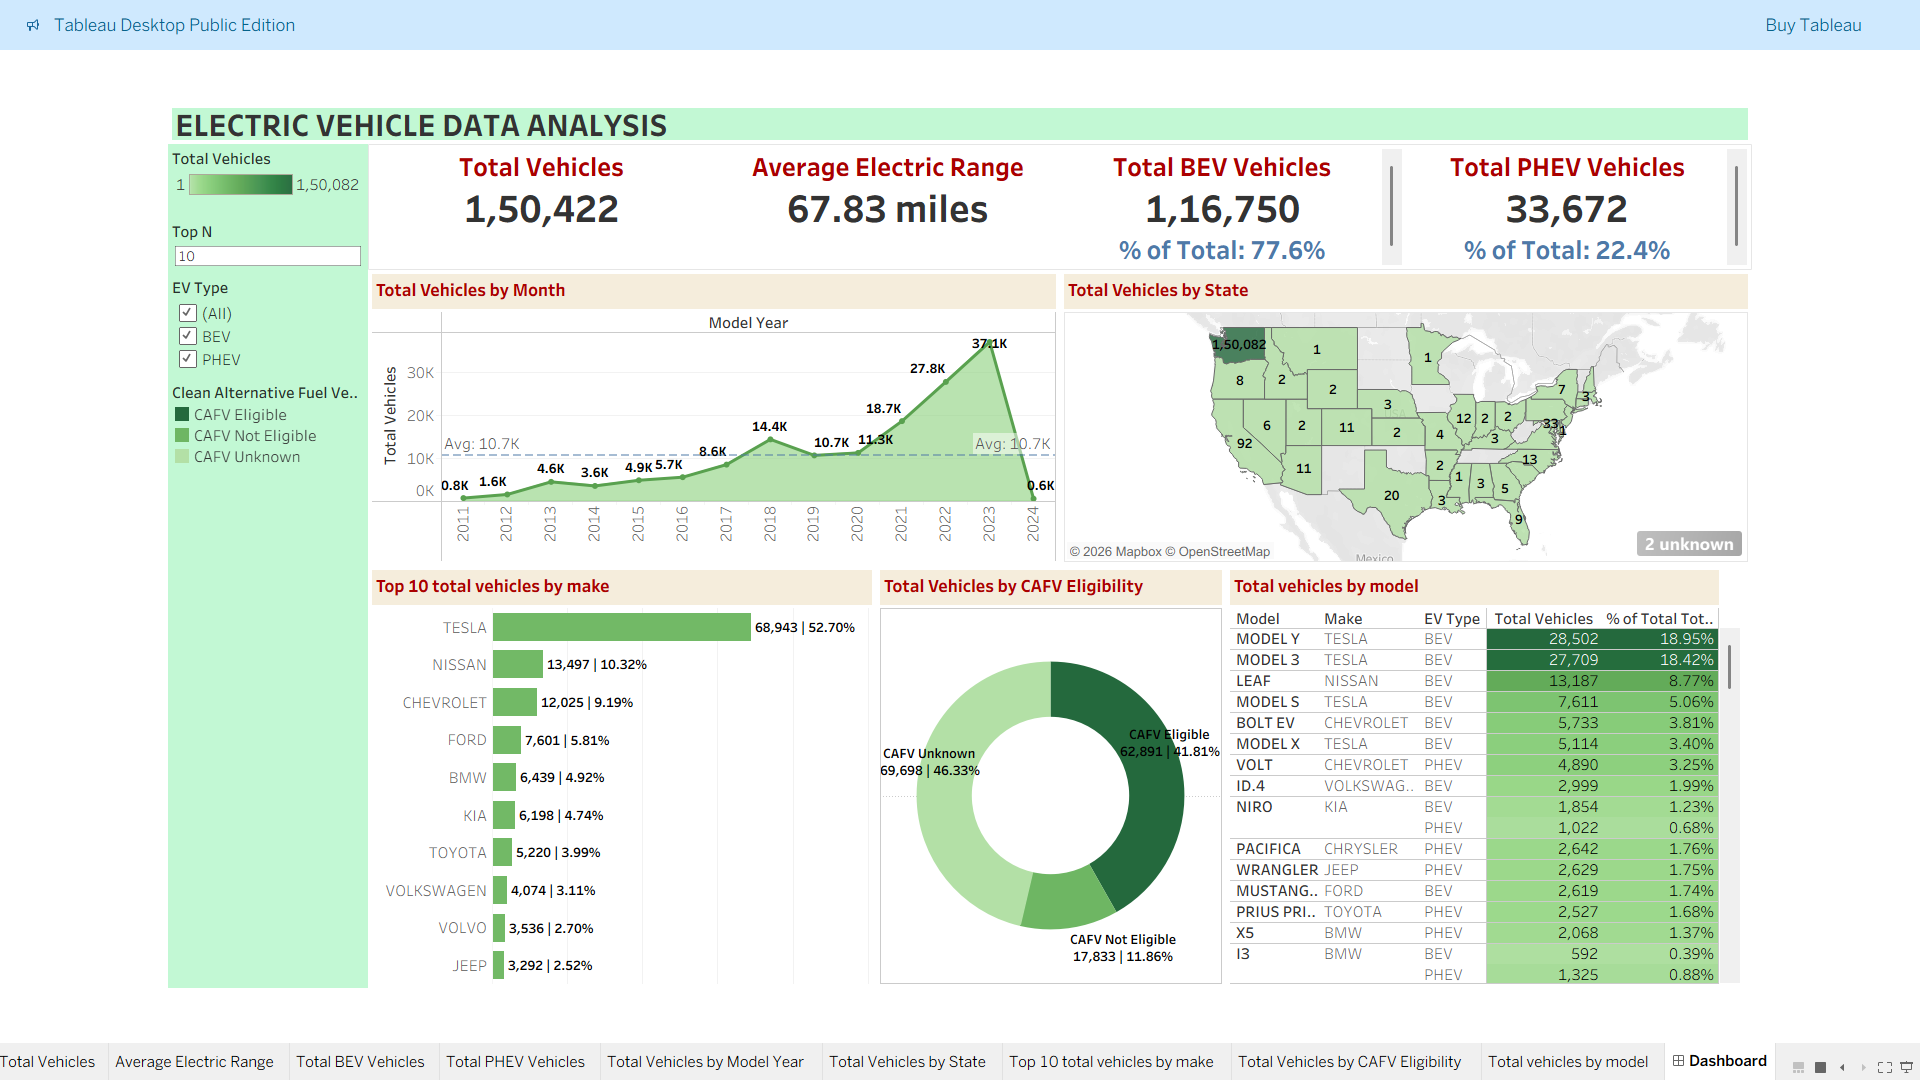

The page's visual inventory and layout, read from the dashboard file:
{"tool":"tableau","page":{"name":"Dashboard","canvas":[1600,900],"ordinal":0},"visuals":[{"type":"title","box":[8,8,1584,40]},{"type":"legend","title":"Total Vehicles by State","param":"[federated.1rrz31y1bbk14j0zt2di90zb713t].[usr:Calculation_1497165453894139904:qk","box":[8,48,200.2,73]},{"type":"worksheet","title":"Total Vehicles","mark":"Automatic","box":[209,49,346,124]},{"type":"worksheet","title":"Average Electric Range","mark":"Automatic","box":[555,49,346,124]},{"type":"worksheet","title":"Total BEV Vehicles","mark":"Automatic","box":[901,49,345,124]},{"type":"worksheet","title":"Total PHEV Vehicles","mark":"Automatic","box":[1246,49,345,124]},{"type":"parameter","param":"[Parameters].[Parameter 1]","box":[8,121,200.2,56]},{"type":"worksheet","title":"Total Vehicles by Model Year","mark":"Area","rows":["Calculation_1497165453894139904","Calculation_1497165453894139904"],"cols":["Model Year"],"box":[208,174,692,296]},{"type":"worksheet","title":"Total Vehicles by State","mark":"Multipolygon","box":[900,174,692,296]},{"type":"filter","title":"Top 10 total vehicles by make","param":"[federated.1rrz31y1bbk14j0zt2di90zb713t].[none:Electric Vehicle Type:nk]","box":[8,177,200.2,105]},{"type":"legend","title":"Total Vehicles by CAFV Eligibility","param":"[federated.1rrz31y1bbk14j0zt2di90zb713t].[none:Clean Alternative Fuel Vehicle (C","box":[8,282,200.2,93]},{"type":"worksheet","title":"Top 10 total vehicles by make","mark":"Automatic","rows":["Make"],"cols":["Calculation_1497165453894139904"],"box":[208.2,470,508,422]},{"type":"worksheet","title":"Total Vehicles by CAFV Eligibility","mark":"Pie","rows":["Calculation_1497165453920751625","Calculation_1497165453920751625"],"box":[716.2,470,349.8,422]},{"type":"worksheet","title":"Total vehicles by model","mark":"Square","rows":["Model","Make","Electric Vehicle Type"],"box":[1066,470,526,422]}]}

Visuals, with their boxes on the page's 1600x900 design canvas (x1, y1, x2, y2). These are canvas units, not pixel positions in the 1920x1080 screenshot, which may show the page scaled, cropped or inside an application window:
title: (8, 8, 1592, 48)
"Total Vehicles by State" legend: (8, 48, 208, 121)
"Total Vehicles" worksheet: (209, 49, 555, 173)
"Average Electric Range" worksheet: (555, 49, 901, 173)
"Total BEV Vehicles" worksheet: (901, 49, 1246, 173)
"Total PHEV Vehicles" worksheet: (1246, 49, 1591, 173)
parameter: (8, 121, 208, 177)
"Total Vehicles by Model Year" worksheet (Area marks): (208, 174, 900, 470)
"Total Vehicles by State" worksheet (Multipolygon marks): (900, 174, 1592, 470)
"Top 10 total vehicles by make" filter: (8, 177, 208, 282)
"Total Vehicles by CAFV Eligibility" legend: (8, 282, 208, 375)
"Top 10 total vehicles by make" worksheet: (208, 470, 716, 892)
"Total Vehicles by CAFV Eligibility" worksheet (Pie marks): (716, 470, 1066, 892)
"Total vehicles by model" worksheet (Square marks): (1066, 470, 1592, 892)
